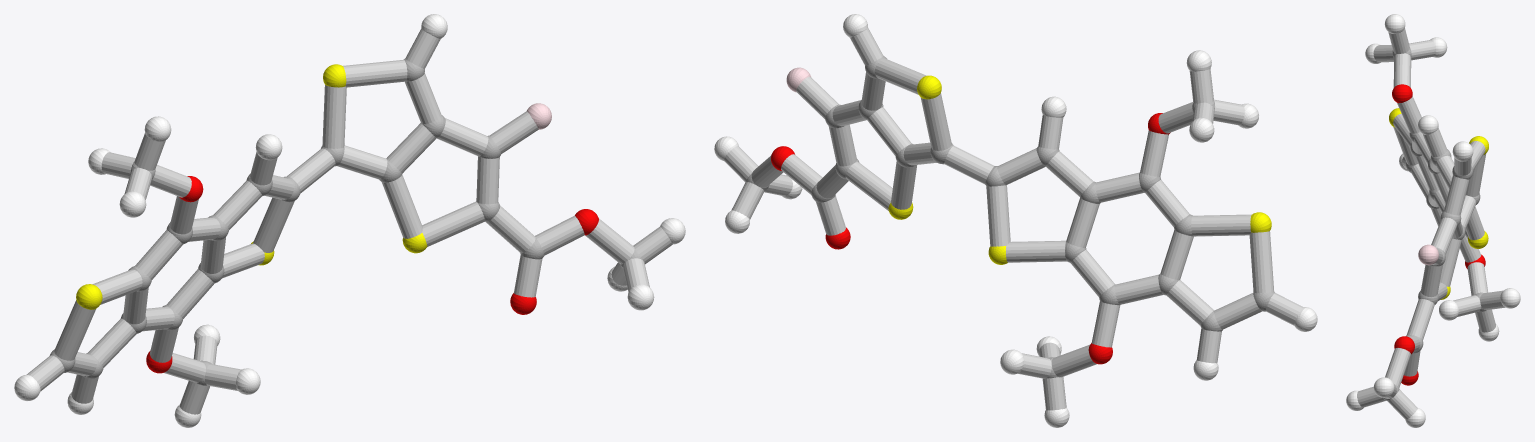
File: Dimethoxy_Benzodithiophene_Phi_20_Theta_320_Methylcarbonyl_3_Fluoro_Thienothiophene.glb
The picture shows the model from 3 angles, left to right: view 1: azimuth 30°, elevation 25°; view 2: azimuth 150°, elevation 25°; view 3: azimuth 270°, elevation 25°; orthographic projection. The views are drawn at different scales.
Visible parts, largest first — view 1: grp15205, grp8689, grp1, grp7241, grp13395; view 2: grp15205, grp8689, grp1, grp7241, grp13395; view 3: grp15205, grp8689, grp1, grp13395, grp7241, grp14843.
Boxes of the visible parts, box(x1,y1,x2,y2) form: grp15205: box(27, 29, 672, 414); grp8689: box(14, 14, 685, 427); grp1: box(50, 58, 642, 385); grp7241: box(76, 64, 427, 309); grp13395: box(146, 176, 598, 373); grp15205: box(724, 28, 1302, 410); grp8689: box(714, 14, 1317, 427); grp1: box(746, 55, 1274, 378); grp7241: box(888, 75, 1271, 264); grp13395: box(771, 113, 1170, 364); grp15205: box(1357, 28, 1505, 419); grp8689: box(1346, 14, 1520, 427); grp1: box(1383, 48, 1486, 400); grp13395: box(1392, 84, 1485, 385); grp7241: box(1389, 108, 1488, 299); grp14843: box(1418, 244, 1438, 265).
Bounding box in the file's own units: 16.94 × 9.32 × 5.06.
